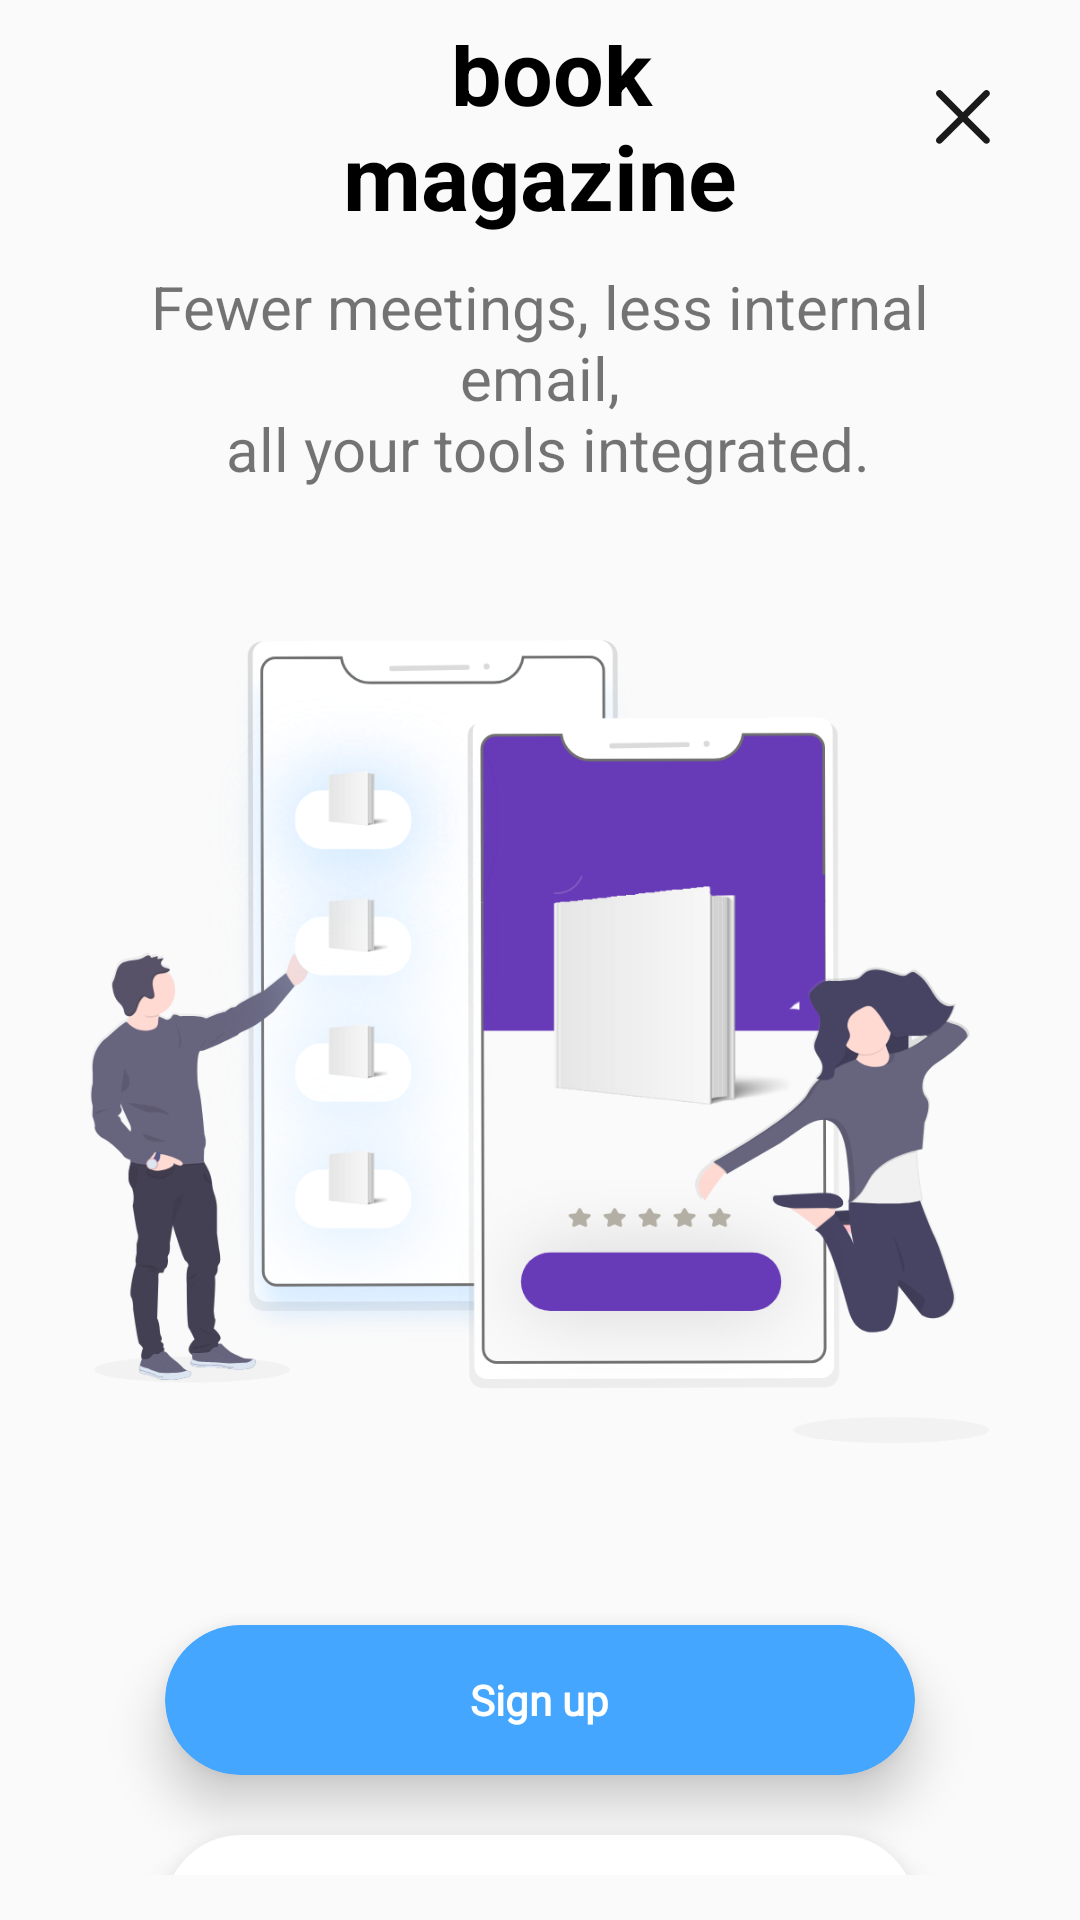

Point at icon controls on the screen. Image size 1080w x 1920h, points as [x,y].
Closingbtn: [963,117]
